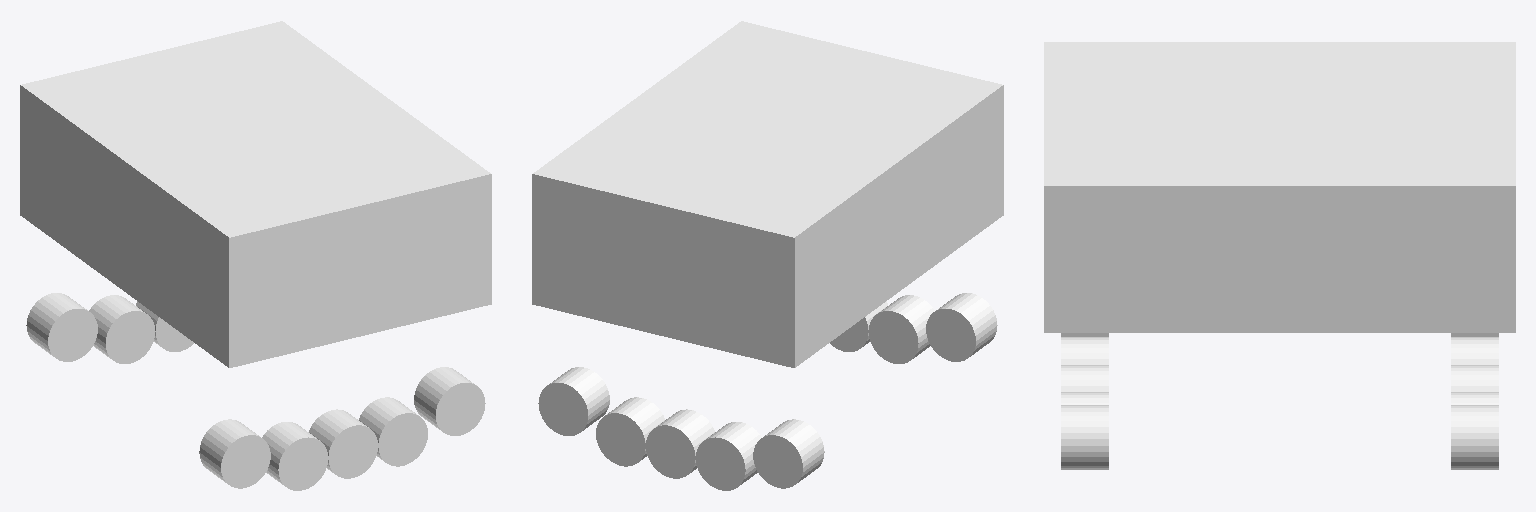
--- What the picture shows (computed from the rendered views, not written in the file) ---
Views: 3 orthographic renders of the robot side by side, from view 1: azimuth 30°, elevation 25°; view 2: azimuth 150°, elevation 25°; view 3: azimuth 270°, elevation 25°.
Model cugo_v3 with 21 links and 20 joints (10 continuous, 10 fixed), rooted at base_footprint, posed every joint at zero.
Links seen in each view (by area): view 1: body_collision, left_back_wheel, right_front_wheel, right_back_wheel, right_center_3_wheel, left_center_3_wheel, right_center_1_wheel, right_center_2_wheel, left_center_2_wheel; view 2: body_collision, left_front_wheel, right_back_wheel, left_back_wheel, left_center_3_wheel, right_center_3_wheel, left_center_1_wheel, left_center_2_wheel, right_center_2_wheel; view 3: body_collision, left_front_wheel, right_front_wheel, left_center_3_wheel, right_center_3_wheel, left_center_2_wheel, right_center_2_wheel, left_center_1_wheel, right_center_1_wheel.
Link boxes in pixels (box(x1,y1,x2,y2)): body_collision: box(20, 21, 491, 367); left_back_wheel: box(26, 293, 97, 361); right_front_wheel: box(414, 367, 485, 435); right_back_wheel: box(199, 419, 270, 488); right_center_3_wheel: box(262, 422, 327, 490); left_center_3_wheel: box(89, 295, 154, 363); right_center_1_wheel: box(359, 397, 427, 466); right_center_2_wheel: box(309, 409, 377, 478); left_center_2_wheel: box(136, 301, 193, 351); body_collision: box(532, 21, 1003, 367); left_front_wheel: box(538, 367, 609, 435); right_back_wheel: box(926, 293, 997, 361); left_back_wheel: box(753, 419, 824, 488); left_center_3_wheel: box(696, 422, 761, 490); right_center_3_wheel: box(869, 295, 934, 363); left_center_1_wheel: box(596, 397, 664, 466); left_center_2_wheel: box(646, 409, 714, 478); right_center_2_wheel: box(830, 301, 887, 351); body_collision: box(1044, 42, 1515, 332); left_front_wheel: box(1451, 405, 1498, 469); right_front_wheel: box(1061, 405, 1108, 469); left_center_3_wheel: box(1451, 337, 1498, 364); right_center_3_wheel: box(1061, 337, 1108, 364); left_center_2_wheel: box(1451, 365, 1498, 391); right_center_2_wheel: box(1061, 365, 1108, 391); left_center_1_wheel: box(1451, 392, 1498, 404); right_center_1_wheel: box(1061, 392, 1108, 404).
Bounding box of the posed robot: 0.424 × 0.58 × 0.425 m (x, y, z).
Meshes: 3 distinct files referenced, 0 mesh visuals loaded (none loaded); not drawn: 3 (reference not matched to a file when rendering), 3 (reference in a form the renderer does not follow; not among the files counted above).

robot.urdf — cugo_v3:
<?xml version="1.0" ?>
<!-- =================================================================================== -->
<!-- |    This document was autogenerated by xacro from src/cugo_ros_simulations/models/cugo_v3/cugo_v3.xacro | -->
<!-- |    EDITING THIS FILE BY HAND IS NOT RECOMMENDED                                 | -->
<!-- =================================================================================== -->
<!-- ========================================================================== -->
<!-- CuGo V3 Robot Description for Gazebo Fortress (Ignition Gazebo)          -->
<!-- Modified from original Gazebo Classic version                             -->
<!-- ROS2 Humble + Gazebo Fortress compatible                                  -->
<!-- ========================================================================== -->
<robot name="cugo_v3">
  <material name="white">
    <color rgba="1.0 1.0 1.0 1.0"/>
  </material>
  <material name="red">
    <color rgba="1.0 0.0 0.0 1.0"/>
  </material>
  <material name="green">
    <color rgba="0.0 1.0 0.0 1.0"/>
  </material>
  <material name="blue">
    <color rgba="0.0 0.0 1.0 1.0"/>
  </material>
  <material name="yellow">
    <color rgba="1.0 1.0 0.0 1.0"/>
  </material>
  <material name="cyan">
    <color rgba="0.0 1.0 1.0 1.0"/>
  </material>
  <material name="purple">
    <color rgba="1.0 0.0 1.0 1.0"/>
  </material>
  <material name="black">
    <color rgba="0.0 0.0 0.0 1.0"/>
  </material>
  <material name="dark">
    <color rgba="0.3 0.3 0.3 1.0"/>
  </material>
  <material name="dummy_white">
    <color rgba="1.0 1.0 1.0 0.0"/>
  </material>
  <!-- ========== Robot Links and Joints ========== -->
  <!-- Base footprint link (ground contact point) -->
  <link name="base_footprint"/>
  <!-- Fixed joint connecting footprint to base_link -->
  <joint name="base_joint" type="fixed">
    <parent link="base_footprint"/>
    <child link="base_link"/>
    <origin rpy="0 0 0" xyz="0.0 0.0 0.1065"/>
  </joint>
  <!-- Base link (main reference frame) -->
  <link name="base_link"/>
  <!-- Fixed joint connecting base_link to body -->
  <joint name="body_joint" type="fixed">
    <parent link="base_link"/>
    <child link="base_body"/>
    <origin rpy="0 0 0" xyz="0 0 0"/>
  </joint>
  <!-- Main body link with visual mesh -->
  <link name="base_body">
    <visual>
      <geometry>
        <!-- ========== MODIFIED: Changed from file:// to package:// protocol ========== -->
        <!-- This allows ROS to find the mesh regardless of workspace location -->
        <mesh filename="file://[local-path]/dev_ws/cugo_ws/install/cugo_ros2_control/share/cugo_ros2_control/models/cugo_v3/meshes/roskit-Compound.dae" scale="1 1 1"/>
      </geometry>
      <origin rpy="0 0 -1.57" xyz="0 0 0"/>
      <material name="red"/>
    </visual>
    <inertial>
      <mass value="9.0"/>
      <origin rpy="0 0 0" xyz="0 0 -0.03"/>
      <inertia ixx="0.13542" ixy="0.0" ixz="0.0" iyy="0.10833" iyz="0.0" izz="0.17708"/>
    </inertial>
  </link>
  <!-- Collision box joint -->
  <joint name="body_collision_joint" type="fixed">
    <parent link="base_body"/>
    <child link="body_collision"/>
    <origin rpy="0 0 0" xyz="0 0 0.18"/>
  </joint>
  <!-- Collision box link -->
  <link name="body_collision">
    <visual>
      <geometry>
        <box size="0.42 0.58 0.2"/>
      </geometry>
      <origin rpy="0 0 0" xyz="0 0 0"/>
      <material name="dummy_white"/>
    </visual>
    <collision>
      <geometry>
        <box size="0.42 0.58 0.2"/>
      </geometry>
    </collision>
    <inertial>
      <mass value="2.4"/>
      <inertia ixx="0.13542" ixy="0.0" ixz="0.0" iyy="0.10833" iyz="0.0" izz="0.17708"/>
    </inertial>
  </link>
  <!-- ========== Left Wheels ========== -->
  <!-- Left center wheel 2 (main drive wheel) -->
  <joint name="left_center_2_wheel_joint" type="continuous">
    <axis rpy="0 0 0" xyz="0 0 -1"/>
    <limit effort="2.0" lower="-1.57" upper="1.57" velocity="25.0"/>
    <parent link="base_body"/>
    <child link="left_center_2_wheel"/>
    <origin rpy="0 1.57075 -1.57" xyz="0 0.24 -0.105"/>
  </joint>
  <link name="left_center_2_wheel">
    <visual>
      <origin rpy="0 0 0" xyz="0 0 0"/>
      <geometry>
        <cylinder length="0.06" radius="0.04"/>
      </geometry>
      <material name="dummy_white"/>
    </visual>
    <collision>
      <geometry>
        <cylinder length="0.145" radius="0.04"/>
      </geometry>
    </collision>
    <inertial>
      <mass value="0.05"/>
      <inertia ixx="0.00024" ixy="0.0" ixz="0.0" iyy="0.00024" iyz="0.0" izz="0.00015"/>
    </inertial>
  </link>
  <!-- Left center wheel 1 (front center) -->
  <joint name="left_center_1_wheel_joint" type="continuous">
    <axis rpy="0 0 0" xyz="0 0 -1"/>
    <limit effort="2.0" lower="-1.57" upper="1.57" velocity="25.0"/>
    <parent link="base_body"/>
    <child link="left_center_1_wheel"/>
    <origin rpy="0 1.57075 -1.57" xyz="0.08 0.24 -0.105"/>
  </joint>
  <link name="left_center_1_wheel">
    <visual>
      <origin rpy="0 0 0" xyz="0 0 0"/>
      <geometry>
        <cylinder length="0.06" radius="0.04"/>
      </geometry>
      <material name="dummy_white"/>
    </visual>
    <collision>
      <geometry>
        <cylinder length="0.145" radius="0.04"/>
      </geometry>
    </collision>
    <inertial>
      <mass value="0.05"/>
      <inertia ixx="0.00024" ixy="0.0" ixz="0.0" iyy="0.00024" iyz="0.0" izz="0.00015"/>
    </inertial>
  </link>
  <!-- Left center wheel 3 (back center) -->
  <joint name="left_center_3_wheel_joint" type="continuous">
    <axis rpy="0 0 0" xyz="0 0 -1"/>
    <limit effort="2.0" lower="-1.57" upper="1.57" velocity="25.0"/>
    <parent link="base_body"/>
    <child link="left_center_3_wheel"/>
    <origin rpy="0 1.57075 -1.57" xyz="-0.08 0.24 -0.105"/>
  </joint>
  <link name="left_center_3_wheel">
    <visual>
      <origin rpy="0 0 0" xyz="0 0 0"/>
      <geometry>
        <cylinder length="0.06" radius="0.04"/>
      </geometry>
      <material name="dummy_white"/>
    </visual>
    <collision>
      <geometry>
        <cylinder length="0.145" radius="0.04"/>
      </geometry>
    </collision>
    <inertial>
      <mass value="0.05"/>
      <inertia ixx="0.00024" ixy="0.0" ixz="0.0" iyy="0.00024" iyz="0.0" izz="0.00015"/>
    </inertial>
  </link>
  <!-- Left front wheel -->
  <joint name="left_front_wheel_joint" type="continuous">
    <axis rpy="0 0 0" xyz="0 0 -1"/>
    <limit effort="2.0" lower="-1.57" upper="1.57" velocity="25.0"/>
    <parent link="base_body"/>
    <child link="left_front_wheel"/>
    <origin rpy="0 1.57075 -1.57" xyz="0.172 0.24 -0.08"/>
  </joint>
  <link name="left_front_wheel">
    <visual>
      <origin rpy="0 0 0" xyz="0 0 0"/>
      <geometry>
        <cylinder length="0.06" radius="0.04"/>
      </geometry>
      <material name="dummy_white"/>
    </visual>
    <collision>
      <geometry>
        <cylinder length="0.145" radius="0.04"/>
      </geometry>
    </collision>
    <inertial>
      <mass value="0.05"/>
      <inertia ixx="0.00024" ixy="0.0" ixz="0.0" iyy="0.00024" iyz="0.0" izz="0.00015"/>
    </inertial>
  </link>
  <!-- Left back wheel -->
  <joint name="left_back_wheel_joint" type="continuous">
    <axis rpy="0 0 0" xyz="0 0 -1"/>
    <limit effort="2.0" lower="-1.57" upper="1.57" velocity="25.0"/>
    <parent link="base_body"/>
    <child link="left_back_wheel"/>
    <origin rpy="0 1.57075 -1.57" xyz="-0.172 0.24 -0.08"/>
  </joint>
  <link name="left_back_wheel">
    <visual>
      <origin rpy="0 0 0" xyz="0 0 0"/>
      <geometry>
        <cylinder length="0.06" radius="0.04"/>
      </geometry>
      <material name="dummy_white"/>
    </visual>
    <collision>
      <geometry>
        <cylinder length="0.145" radius="0.04"/>
      </geometry>
    </collision>
    <inertial>
      <mass value="0.05"/>
      <inertia ixx="0.00024" ixy="0.0" ixz="0.0" iyy="0.00024" iyz="0.0" izz="0.00015"/>
    </inertial>
  </link>
  <!-- ========== Right Wheels ========== -->
  <!-- Right center wheel 2 (main drive wheel) -->
  <joint name="right_center_2_wheel_joint" type="continuous">
    <axis rpy="0 0 0" xyz="0 0 -1"/>
    <limit effort="2.0" lower="-1.57" upper="1.57" velocity="25.0"/>
    <parent link="base_body"/>
    <child link="right_center_2_wheel"/>
    <origin rpy="0 1.57075 -1.57" xyz="0 -0.24 -0.105"/>
  </joint>
  <link name="right_center_2_wheel">
    <visual>
      <origin rpy="0 0 0" xyz="0 0 0"/>
      <geometry>
        <cylinder length="0.06" radius="0.04"/>
      </geometry>
      <material name="dummy_white"/>
    </visual>
    <collision>
      <geometry>
        <cylinder length="0.145" radius="0.04"/>
      </geometry>
    </collision>
    <inertial>
      <mass value="0.05"/>
      <inertia ixx="0.00024" ixy="0.0" ixz="0.0" iyy="0.00024" iyz="0.0" izz="0.00015"/>
    </inertial>
  </link>
  <!-- Right center wheel 1 (front center) -->
  <joint name="right_center_1_wheel_joint" type="continuous">
    <axis rpy="0 0 0" xyz="0 0 -1"/>
    <limit effort="2.0" lower="-1.57" upper="1.57" velocity="25.0"/>
    <parent link="base_body"/>
    <child link="right_center_1_wheel"/>
    <origin rpy="0 1.57075 -1.57" xyz="0.08 -0.24 -0.105"/>
  </joint>
  <link name="right_center_1_wheel">
    <visual>
      <origin rpy="0 0 0" xyz="0 0 0"/>
      <geometry>
        <cylinder length="0.06" radius="0.04"/>
      </geometry>
      <material name="dummy_white"/>
    </visual>
    <collision>
      <geometry>
        <cylinder length="0.145" radius="0.04"/>
      </geometry>
    </collision>
    <inertial>
      <mass value="0.05"/>
      <inertia ixx="0.00024" ixy="0.0" ixz="0.0" iyy="0.00024" iyz="0.0" izz="0.00015"/>
    </inertial>
  </link>
  <!-- Right center wheel 3 (back center) -->
  <joint name="right_center_3_wheel_joint" type="continuous">
    <axis rpy="0 0 0" xyz="0 0 -1"/>
    <limit effort="2.0" lower="-1.57" upper="1.57" velocity="25.0"/>
    <parent link="base_body"/>
    <child link="right_center_3_wheel"/>
    <origin rpy="0 1.57075 -1.57" xyz="-0.08 -0.24 -0.105"/>
  </joint>
  <link name="right_center_3_wheel">
    <visual>
      <origin rpy="0 0 0" xyz="0 0 0"/>
      <geometry>
        <cylinder length="0.06" radius="0.04"/>
      </geometry>
      <material name="dummy_white"/>
    </visual>
    <collision>
      <geometry>
        <cylinder length="0.145" radius="0.04"/>
      </geometry>
    </collision>
    <inertial>
      <mass value="0.05"/>
      <inertia ixx="0.00024" ixy="0.0" ixz="0.0" iyy="0.00024" iyz="0.0" izz="0.00015"/>
    </inertial>
  </link>
  <!-- Right front wheel -->
  <joint name="right_front_wheel_joint" type="continuous">
    <axis rpy="0 0 0" xyz="0 0 -1"/>
    <limit effort="2.0" lower="-1.57" upper="1.57" velocity="25.0"/>
    <parent link="base_body"/>
    <child link="right_front_wheel"/>
    <origin rpy="0 1.57075 -1.57" xyz="0.172 -0.24 -0.08"/>
  </joint>
  <link name="right_front_wheel">
    <visual>
      <origin rpy="0 0 0" xyz="0 0 0"/>
      <geometry>
        <cylinder length="0.06" radius="0.04"/>
      </geometry>
      <material name="dummy_white"/>
    </visual>
    <collision>
      <geometry>
        <cylinder length="0.145" radius="0.04"/>
      </geometry>
    </collision>
    <inertial>
      <mass value="0.05"/>
      <inertia ixx="0.00024" ixy="0.0" ixz="0.0" iyy="0.00024" iyz="0.0" izz="0.00015"/>
    </inertial>
  </link>
  <!-- Right back wheel -->
  <joint name="right_back_wheel_joint" type="continuous">
    <axis rpy="0 0 0" xyz="0 0 -1"/>
    <limit effort="2.0" lower="-1.57" upper="1.57" velocity="25.0"/>
    <parent link="base_body"/>
    <child link="right_back_wheel"/>
    <origin rpy="0 1.57075 -1.57" xyz="-0.172 -0.24 -0.08"/>
  </joint>
  <link name="right_back_wheel">
    <visual>
      <origin rpy="0 0 0" xyz="0 0 0"/>
      <geometry>
        <cylinder length="0.06" radius="0.04"/>
      </geometry>
      <material name="dummy_white"/>
    </visual>
    <collision>
      <geometry>
        <cylinder length="0.145" radius="0.04"/>
      </geometry>
    </collision>
    <inertial>
      <mass value="0.05"/>
      <inertia ixx="0.00024" ixy="0.0" ixz="0.0" iyy="0.00024" iyz="0.0" izz="0.00015"/>
    </inertial>
  </link>
  <!-- ========== Crawler Tracks ========== -->
  <!-- Left crawler track -->
  <joint name="left_crawler_joint" type="fixed">
    <axis rpy="0 0 0" xyz="0 0 -1"/>
    <parent link="base_body"/>
    <child link="left_crawler"/>
    <origin rpy="0 1.57075 -1.57" xyz="-0.01 0.22 -0.043"/>
  </joint>
  <link name="left_crawler">
    <visual>
      <origin rpy="0 0 0" xyz="0 0 0"/>
      <geometry>
        <!-- ========== MODIFIED: Changed from file:// to package:// protocol ========== -->
        <mesh filename="file://[local-path]/dev_ws/cugo_ws/install/cugo_ros2_control/share/cugo_ros2_control/models/cugo_v3/meshes/cugo_v3_l-CuGoV3_L001.stl" scale="0.001 0.001 0.001"/>
      </geometry>
      <material name="white"/>
    </visual>
    <inertial>
      <mass value="0.05"/>
      <inertia ixx="0.00024" ixy="0.0" ixz="0.0" iyy="0.00024" iyz="0.0" izz="0.00015"/>
    </inertial>
  </link>
  <!-- Right crawler track -->
  <joint name="right_crawler_joint" type="fixed">
    <axis rpy="0 0 0" xyz="0 0 -1"/>
    <parent link="base_body"/>
    <child link="right_crawler"/>
    <origin rpy="0 1.57075 -1.57" xyz="-0.10 -0.2065 -0.055"/>
  </joint>
  <link name="right_crawler">
    <visual>
      <origin rpy="0 0 0" xyz="0 0 0"/>
      <geometry>
        <!-- ========== MODIFIED: Changed from file:// to package:// protocol ========== -->
        <mesh filename="file://[local-path]/dev_ws/cugo_ws/install/cugo_ros2_control/share/cugo_ros2_control/models/cugo_v3/meshes/cugo_v3_r-CuGoV3_R001.stl" scale="0.001 0.001 0.001"/>
      </geometry>
      <material name="white"/>
    </visual>
    <inertial>
      <mass value="0.05"/>
      <inertia ixx="0.00024" ixy="0.0" ixz="0.0" iyy="0.00024" iyz="0.0" izz="0.00015"/>
    </inertial>
  </link>
  <!-- ========================================================================== -->
  <!-- GAZEBO PLUGINS FOR IGNITION GAZEBO (FORTRESS)                             -->
  <!-- ========================================================================== -->
  <!-- ========== DELETED: All Gazebo Classic plugins ========== -->
  <!-- 
  The following 5 Gazebo Classic differential drive plugins were removed:
  - cugo_diff_drive
  - cugo_diff_drive_mini_front  
  - cugo_diff_drive_mini_back
  - cugo_diff_drive_big_front
  - cugo_diff_drive_big_back
  
  These used libgazebo_ros_diff_drive.so which is incompatible with Ignition Gazebo
  -->
  <!-- ========== NEW: Ignition Gazebo Differential Drive Plugin ========== -->
  <!--
  This single plugin replaces all 5 Gazebo Classic diff_drive plugins
  It controls multiple drive wheels per side for better traction on slopes
  Left side: center 1, 2, 3 wheels
  Right side: center 1, 2, 3 wheels
  -->
  <gazebo>
    <plugin filename="ignition-gazebo-diff-drive-system" name="ignition::gazebo::systems::DiffDrive">
      <!-- Left side drive wheel joints (ALL wheels for maximum traction) -->
      <left_joint>left_front_wheel_joint</left_joint>
      <left_joint>left_center_1_wheel_joint</left_joint>
      <left_joint>left_center_2_wheel_joint</left_joint>
      <left_joint>left_center_3_wheel_joint</left_joint>
      <left_joint>left_back_wheel_joint</left_joint>
      <!-- Right side drive wheel joints (ALL wheels for maximum traction) -->
      <right_joint>right_front_wheel_joint</right_joint>
      <right_joint>right_center_1_wheel_joint</right_joint>
      <right_joint>right_center_2_wheel_joint</right_joint>
      <right_joint>right_center_3_wheel_joint</right_joint>
      <right_joint>right_back_wheel_joint</right_joint>
      <!-- Wheel separation (tread width) in meters -->
      <wheel_separation>0.460</wheel_separation>
      <!-- Wheel radius in meters (average: chain + sprocket) -->
      <wheel_radius>0.04</wheel_radius>
      <!-- Odometry publishing frequency in Hz -->
      <odom_publish_frequency>50</odom_publish_frequency>
      <!-- Command velocity topic (subscribes) -->
      <topic>cmd_vel</topic>
      <!-- Odometry topic (publishes) -->
      <odom_topic>/odom</odom_topic>
      <!-- Enable TF publishing (odom -> base_footprint) -->
      <publish_odom>true</publish_odom>
      <publish_odom_tf>true</publish_odom_tf>
      <!-- TF topic for coordinate transformations -->
      <tf_topic>/tf</tf_topic>
      <!-- Odometry parent frame -->
      <frame_id>odom</frame_id>
      <!-- Robot base frame (child of odom) -->
      <child_frame_id>base_footprint</child_frame_id>
      <!-- Maximum linear acceleration in m/s^2 -->
      <max_linear_acceleration>1.0</max_linear_acceleration>
      <!-- Maximum angular acceleration in rad/s^2 -->
      <max_angular_acceleration>2.0</max_angular_acceleration>
      <!-- Maximum linear velocity in m/s (3.5 km/h = 0.972 m/s) -->
      <min_velocity>-0.972</min_velocity>
      <max_velocity>0.972</max_velocity>
    </plugin>
  </gazebo>
  <!-- ========== Joint State Publisher Plugin ========== -->
  <gazebo>
    <plugin filename="ignition-gazebo-joint-state-publisher-system" name="ignition::gazebo::systems::JointStatePublisher">
      <!-- All wheel joints -->
      <joint_name>left_center_2_wheel_joint</joint_name>
      <joint_name>right_center_2_wheel_joint</joint_name>
      <joint_name>left_center_1_wheel_joint</joint_name>
      <joint_name>right_center_1_wheel_joint</joint_name>
      <joint_name>left_center_3_wheel_joint</joint_name>
      <joint_name>right_center_3_wheel_joint</joint_name>
      <joint_name>left_front_wheel_joint</joint_name>
      <joint_name>right_front_wheel_joint</joint_name>
      <joint_name>left_back_wheel_joint</joint_name>
      <joint_name>right_back_wheel_joint</joint_name>
    </plugin>
  </gazebo>
  <!-- ========== Gazebo Material Properties ========== -->
  <!-- These set friction coefficients for all wheels and collision surfaces -->
  <gazebo reference="right_center_2_wheel">
    <mu1>0.8</mu1>
    <mu2>0.8</mu2>
    <material>Gazebo/GreyTransparent</material>
  </gazebo>
  <gazebo reference="right_center_1_wheel">
    <mu1>0.8</mu1>
    <mu2>0.8</mu2>
    <material>Gazebo/GreyTransparent</material>
  </gazebo>
  <gazebo reference="right_center_3_wheel">
    <mu1>0.8</mu1>
    <mu2>0.8</mu2>
    <material>Gazebo/GreyTransparent</material>
  </gazebo>
  <gazebo reference="right_front_wheel">
    <mu1>0.8</mu1>
    <mu2>0.8</mu2>
    <material>Gazebo/GreyTransparent</material>
  </gazebo>
  <gazebo reference="right_back_wheel">
    <mu1>0.8</mu1>
    <mu2>0.8</mu2>
    <material>Gazebo/GreyTransparent</material>
  </gazebo>
  <gazebo reference="left_center_2_wheel">
    <mu1>0.8</mu1>
    <mu2>0.8</mu2>
    <material>Gazebo/GreyTransparent</material>
  </gazebo>
  <gazebo reference="left_center_1_wheel">
    <mu1>0.8</mu1>
    <mu2>0.8</mu2>
    <material>Gazebo/GreyTransparent</material>
  </gazebo>
  <gazebo reference="left_center_3_wheel">
    <mu1>0.8</mu1>
    <mu2>0.8</mu2>
    <material>Gazebo/GreyTransparent</material>
  </gazebo>
  <gazebo reference="left_front_wheel">
    <mu1>0.8</mu1>
    <mu2>0.8</mu2>
    <material>Gazebo/GreyTransparent</material>
  </gazebo>
  <gazebo reference="left_back_wheel">
    <mu1>0.8</mu1>
    <mu2>0.8</mu2>
    <material>Gazebo/GreyTransparent</material>
  </gazebo>
  <gazebo reference="body_collision">
    <mu1>0.8</mu1>
    <mu2>0.8</mu2>
    <material>Gazebo/GreyTransparent</material>
  </gazebo>
  <link name="ouster_base_link">
    <inertial>
      <mass value="0.0"/>
      <origin xyz="0 0 0.01125"/>
      <inertia ixx="0.0" ixy="0" ixz="0" iyy="0.0" iyz="0" izz="0.0"/>
    </inertial>
    <visual>
      <material name="ouster_grey">
        <color rgba="0.8 0.8 0.8 1.0"/>
      </material>
      <origin xyz="0 0 0.0225"/>
      <geometry>
        <mesh filename="package://clearpath_sensors_description/meshes/ouster/os1_base.dae"/>
      </geometry>
    </visual>
    <collision>
      <origin xyz="0 0 0.01125"/>
      <geometry>
        <box size="0.11 0.11 0.0225"/>
      </geometry>
    </collision>
  </link>
  <!-- Lidar Link -->
  <link name="ouster_link">
    <inertial>
      <mass value="0.41"/>
      <origin xyz="0 0 0.029175"/>
      <inertia ixx="0.00031028364375" ixy="0" ixz="0" iyy="0.00031028364375" iyz="0" izz="0.00038791124999999993"/>
    </inertial>
    <visual>
      <material name="ouster_grey">
        <color rgba="0.8 0.8 0.8 1.0"/>
      </material>
      <origin xyz="0 0 0"/>
      <geometry>
        <mesh filename="package://clearpath_sensors_description/meshes/ouster/os1_lidar.dae"/>
      </geometry>
    </visual>
    <collision>
      <material>
        <color rgba="0.8 0.8 0.8 1.0"/>
      </material>
      <origin rpy="0 0 0" xyz="0 0 0.029175"/>
      <geometry>
        <cylinder length="0.05835" radius="0.0435"/>
      </geometry>
    </collision>
  </link>
  <link name="ouster_cap_link">
    <inertial>
      <mass value="0.092"/>
      <origin xyz="0 0 0.011"/>
      <inertia ixx="4.7022565241666676e-05" ixy="0" ixz="0" iyy="4.7022565241666676e-05" iyz="0" izz="8.662379715000001e-05"/>
    </inertial>
    <visual>
      <material name="ouster_grey">
        <color rgba="0.8 0.8 0.8 1.0"/>
      </material>
      <origin xyz="0 0 -0.05835"/>
      <geometry>
        <mesh filename="package://clearpath_sensors_description/meshes/ouster/os1_halo.dae"/>
      </geometry>
    </visual>
    <collision>
      <material>
        <color rgba="0.8 0.8 0.8 1.0"/>
      </material>
      <origin rpy="0 0 0" xyz="0 0 0.011"/>
      <geometry>
        <cylinder length="0.022" radius="0.043395"/>
      </geometry>
    </collision>
  </link>
  <!-- Base Joint -->
  <joint name="ouster_base_joint" type="fixed">
    <child link="ouster_base_link"/>
    <parent link="base_link"/>
    <origin rpy="0 0 0" xyz="0.0 0.0 0.15"/>
  </joint>
  <!-- Lidar Joint -->
  <joint name="ouster_joint" type="fixed">
    <child link="ouster_link"/>
    <parent link="ouster_base_link"/>
    <origin xyz="0 0 0.0225"/>
  </joint>
  <!-- Thermal Cap Joint -->
  <joint name="{name}_cap_joint" type="fixed">
    <child link="ouster_cap_link"/>
    <parent link="ouster_link"/>
    <origin xyz="0 0 0.05835"/>
  </joint>
  <!-- Sensor Joint -->
  <link name="ouster_sensor_link"/>
  <joint name="ouster_sensor_joint" type="fixed">
    <child link="ouster_sensor_link"/>
    <parent link="ouster_link"/>
    <origin xyz="0 0 0.038195"/>
  </joint>
  <!-- Gazebo -->
  <gazebo reference="ouster_sensor_link">
    <sensor name="ouster" type="gpu_lidar">
      <update_rate>10</update_rate>
      <visualize>true</visualize>
      <always_on>true</always_on>
      <ignition_frame_id>ouster_sensor_link</ignition_frame_id>
      <topic>/sensors/ouster/scan</topic>
      <lidar>
        <scan>
          <horizontal>
            <samples>720</samples>
            <resolution>1</resolution>
            <min_angle>-3.141592653589793</min_angle>
            <max_angle>3.141592653589793</max_angle>
          </horizontal>
          <vertical>
            <samples>32</samples>
            <resolution>1</resolution>
            <min_angle>-0.2897246558310587</min_angle>
            <max_angle>0.2897246558310587</max_angle>
          </vertical>
        </scan>
        <range>
          <min>0.5</min>
          <max>120.0</max>
          <resolution>0.01</resolution>
        </range>
      </lidar>
    </sensor>
  </gazebo>
  <!-- ========== IMU Sensor ========== -->
  <!-- IMU joint (fixed to base_link) -->
  <joint name="imu_joint" type="fixed">
    <parent link="base_link"/>
    <child link="imu_link"/>
    <!-- Position: centered on robot body, 3cm above base_link (lowered for stability) -->
    <origin rpy="0 0 0" xyz="0.0 0.0 0.03"/>
  </joint>
  <!-- IMU link with visual representation -->
  <link name="imu_link">
    <visual>
      <geometry>
        <!-- Small box representing IMU sensor -->
        <box size="0.03 0.03 0.02"/>
      </geometry>
      <material name="dark"/>
    </visual>
    <collision>
      <geometry>
        <!-- Small box representing IMU sensor -->
        <box size="0.03 0.03 0.02"/>
      </geometry>
    </collision>
    <inertial>
      <mass value="0.05"/>
      <origin xyz="0 0 0"/>
      <inertia ixx="1e-4" ixy="0" ixz="0" iyy="1e-4" iyz="0" izz="1e-4"/>
    </inertial>
  </link>
  <!-- ========== Ignition Gazebo IMU Sensor ========== -->
  <!--
  IMU sensor provides:
  - Linear acceleration (with gravity)
  - Angular velocity (gyroscope)
  - Orientation (computed from accelerometer + gyroscope)
  
  NOTE: This follows the same pattern as the LiDAR sensor above
  No separate plugin tag needed - Ignition handles it internally
  -->
  <gazebo reference="imu_link">
    <sensor name="imu_sensor" type="imu">
      <!-- Sensor pose relative to parent link -->
      <pose>0 0 0 0 0 0</pose>
      <!-- ROS topic name for IMU messages -->
      <topic>imu</topic>
      <!-- Update rate in Hz -->
      <update_rate>100</update_rate>
      <!-- Keep sensor always active -->
      <always_on>1</always_on>
      <!-- Visualize IMU orientation in Gazebo GUI -->
      <visualize>true</visualize>
      <!-- IMU configuration -->
      <imu>
        <!-- Enable orientation output -->
        <orientation_enabled>true</orientation_enabled>
        <!-- Angular velocity (gyroscope) noise parameters -->
        <angular_velocity>
          <x>
            <noise type="gaussian">
              <mean>0.0</mean>
              <stddev>2e-4</stddev>
              <bias_mean>0.0000075</bias_mean>
              <bias_stddev>0.0000008</bias_stddev>
            </noise>
          </x>
          <y>
            <noise type="gaussian">
              <mean>0.0</mean>
              <stddev>2e-4</stddev>
              <bias_mean>0.0000075</bias_mean>
              <bias_stddev>0.0000008</bias_stddev>
            </noise>
          </y>
          <z>
            <noise type="gaussian">
              <mean>0.0</mean>
              <stddev>2e-4</stddev>
              <bias_mean>0.0000075</bias_mean>
              <bias_stddev>0.0000008</bias_stddev>
            </noise>
          </z>
        </angular_velocity>
        <!-- Linear acceleration (accelerometer) noise parameters -->
        <linear_acceleration>
          <x>
            <noise type="gaussian">
              <mean>0.0</mean>
              <stddev>1.7e-2</stddev>
              <bias_mean>0.1</bias_mean>
              <bias_stddev>0.001</bias_stddev>
            </noise>
          </x>
          <y>
            <noise type="gaussian">
              <mean>0.0</mean>
              <stddev>1.7e-2</stddev>
              <bias_mean>0.1</bias_mean>
              <bias_stddev>0.001</bias_stddev>
            </noise>
          </y>
          <z>
            <noise type="gaussian">
              <mean>0.0</mean>
              <stddev>1.7e-2</stddev>
              <bias_mean>0.1</bias_mean>
              <bias_stddev>0.001</bias_stddev>
            </noise>
          </z>
        </linear_acceleration>
      </imu>
      <!-- Frame ID for TF transformations -->
      <!-- This must match the link name for proper TF tree -->
      <ignition_frame_id>imu_link</ignition_frame_id>
    </sensor>
  </gazebo>
</robot>
